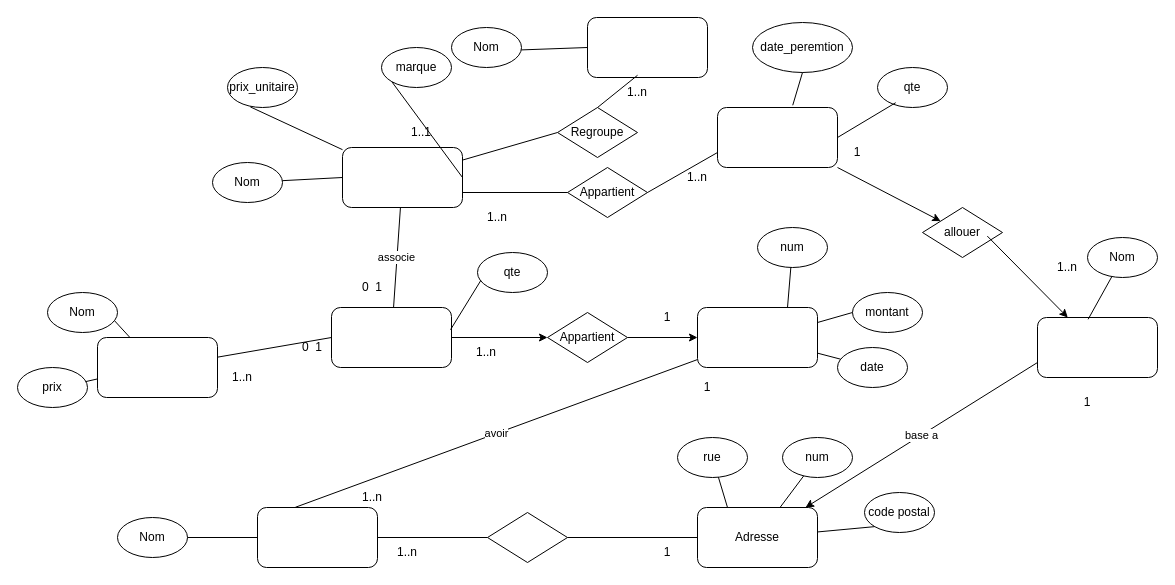
Some shapes in this 1175 by 585 pixel diagram are drawn without their labels. The shapes that lost their labels are listed below. From the top down, each one's centre as x and y in pixels, then its label:
At point 647,47: "Domaine".
At point 777,137: "Stock".
At point 402,177: "Materiaux".
At point 391,337: "ligneCommande".
At point 757,337: "Facture".
At point 1097,347: "Agence".
At point 157,367: "Service".
At point 317,537: "Client".
At point 527,537: "reside".
